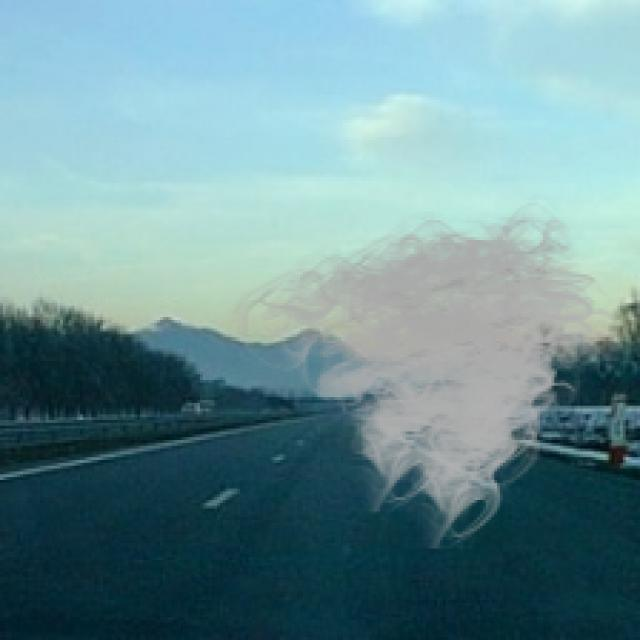smoke: (226, 194, 631, 549)
